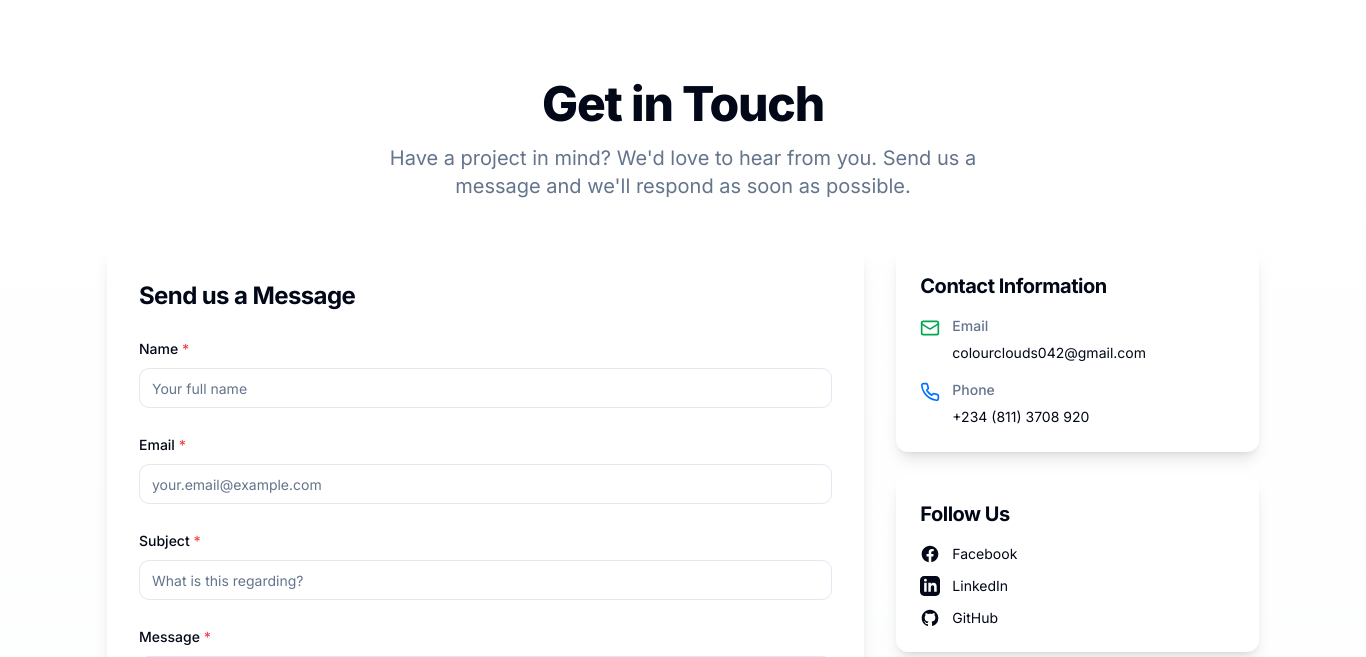
Scenario: Contact Page › Client-side Validation › should show validation error for short subject
Type "Hi" into the field labelled "Subject *" at (486, 580), box [139, 560, 832, 600]
(page scrolled)
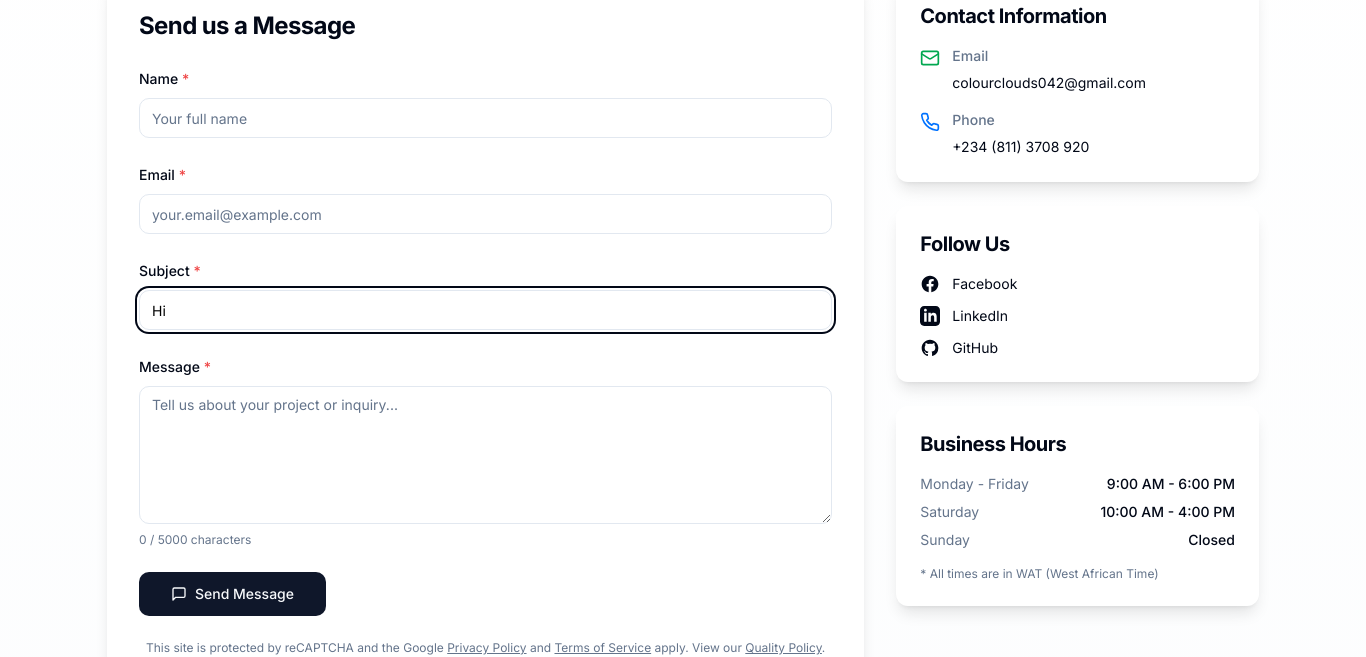
Click the button "Send Message" at (232, 594), box [139, 572, 326, 616]
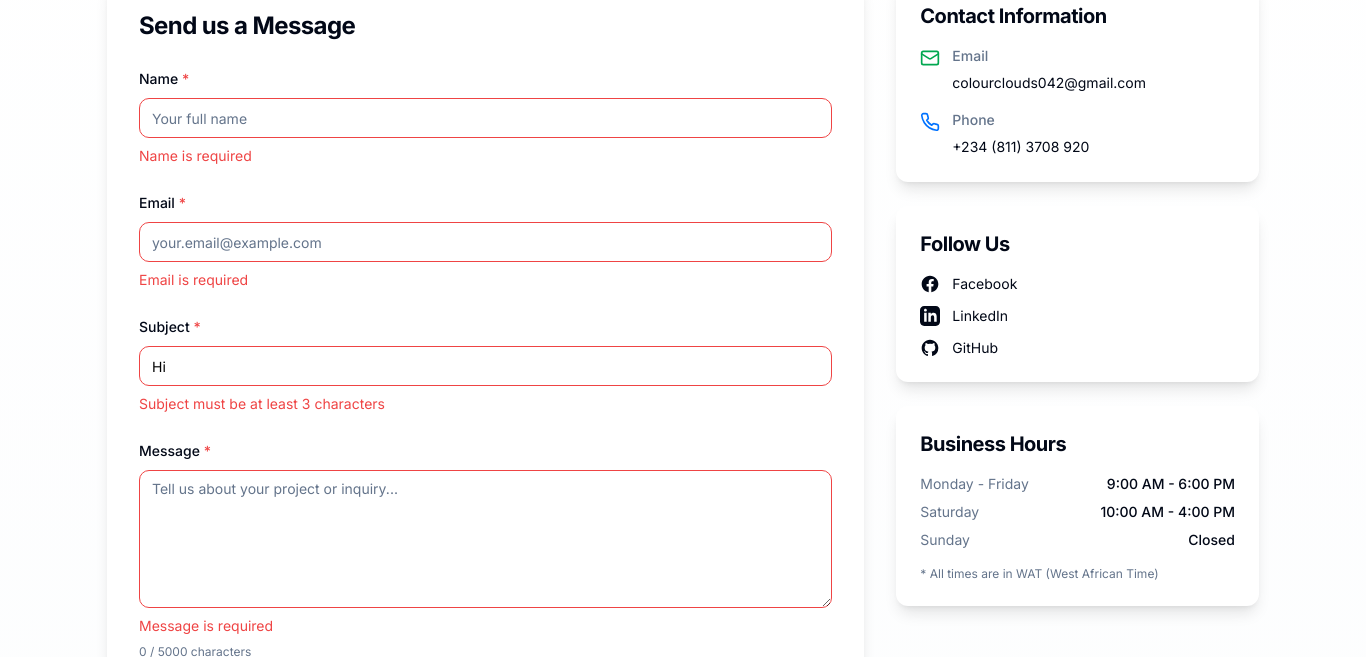
Now the text "Subject must be at least 3 characters" is shown, box [139, 395, 385, 412]
